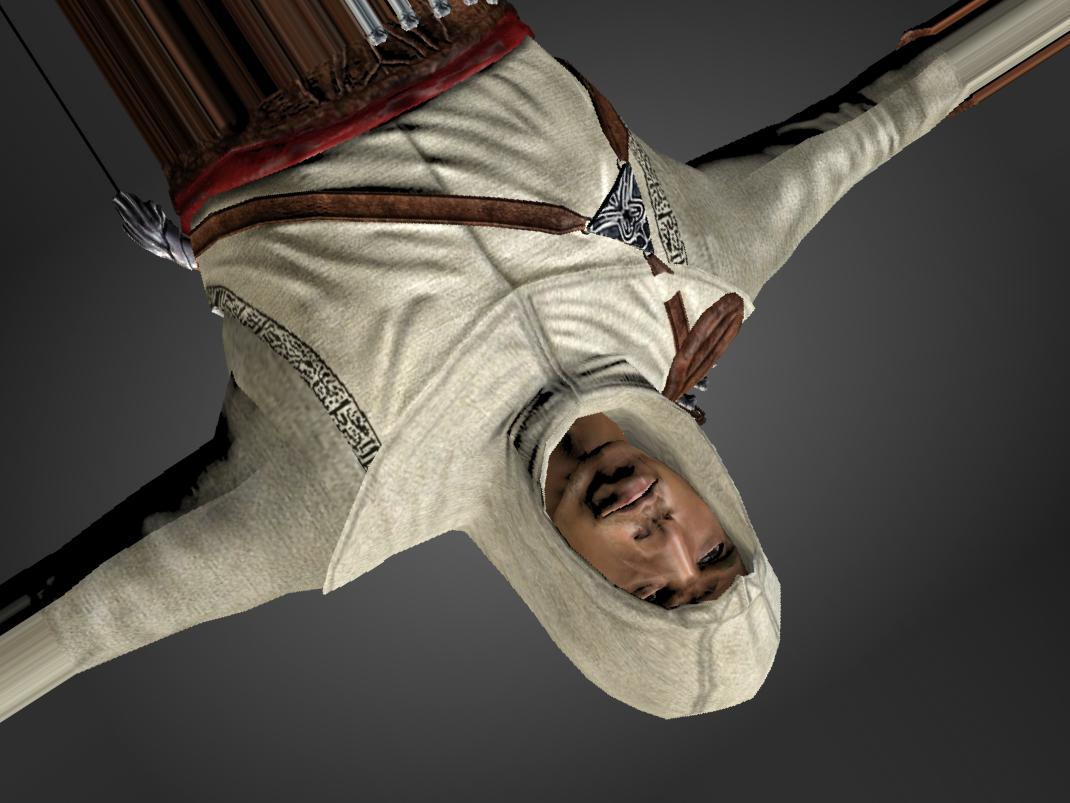clip: (646, 251, 686, 307)
